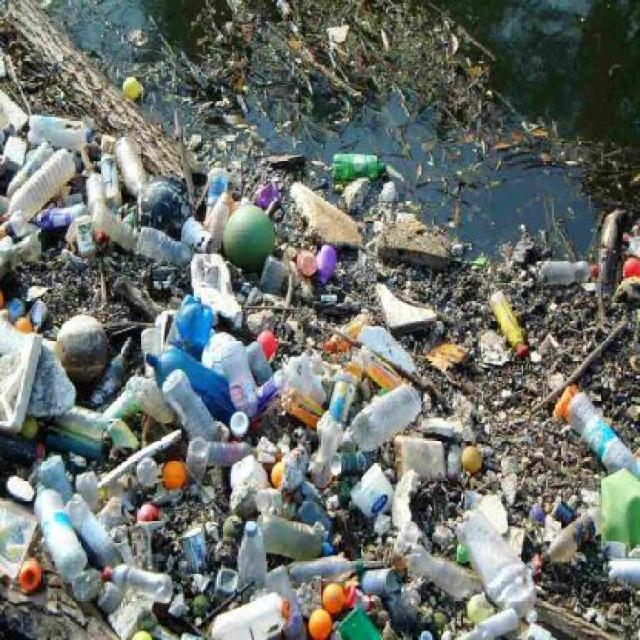garbage: (2, 3, 638, 636)
